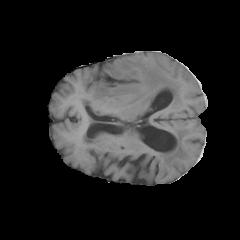glioma: (77, 57, 184, 117)
